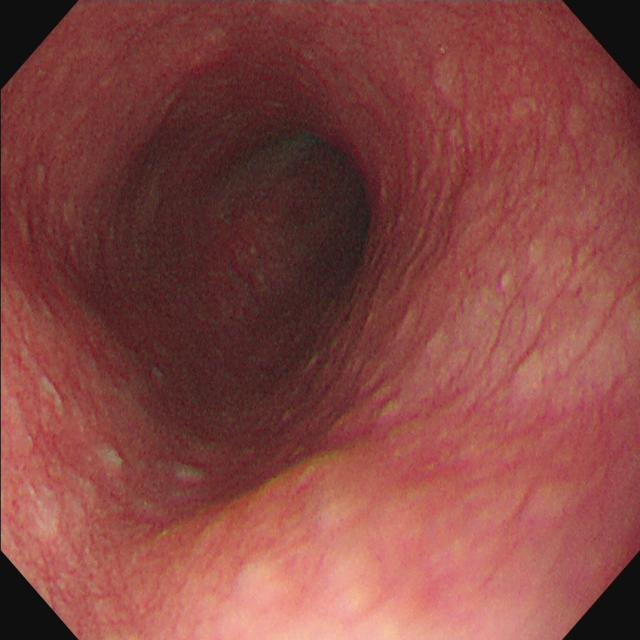A: (137, 419, 421, 614)
E: (206, 118, 379, 349)
